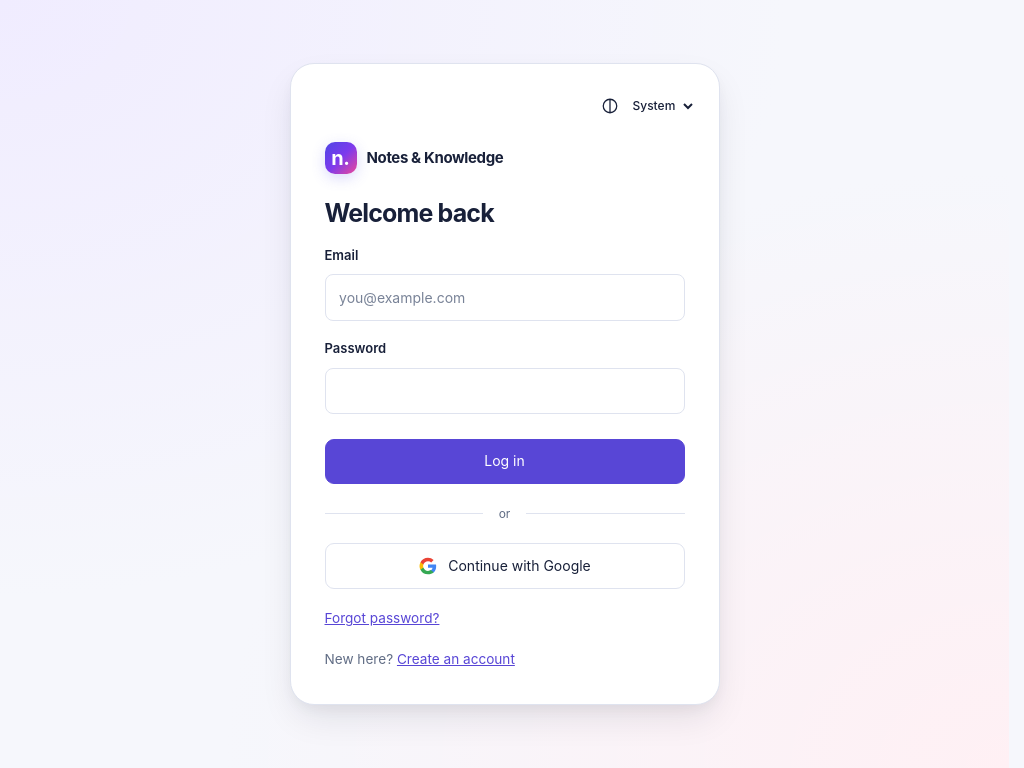
authentication browser journey › does not navigate to an unapproved Google start destination
expect the heading "Welcome back" is shown: met, box x1=324 y1=198 x2=494 y2=228
Click the button "Continue with Google": (504, 566) x1=324 y1=543 x2=684 y2=589
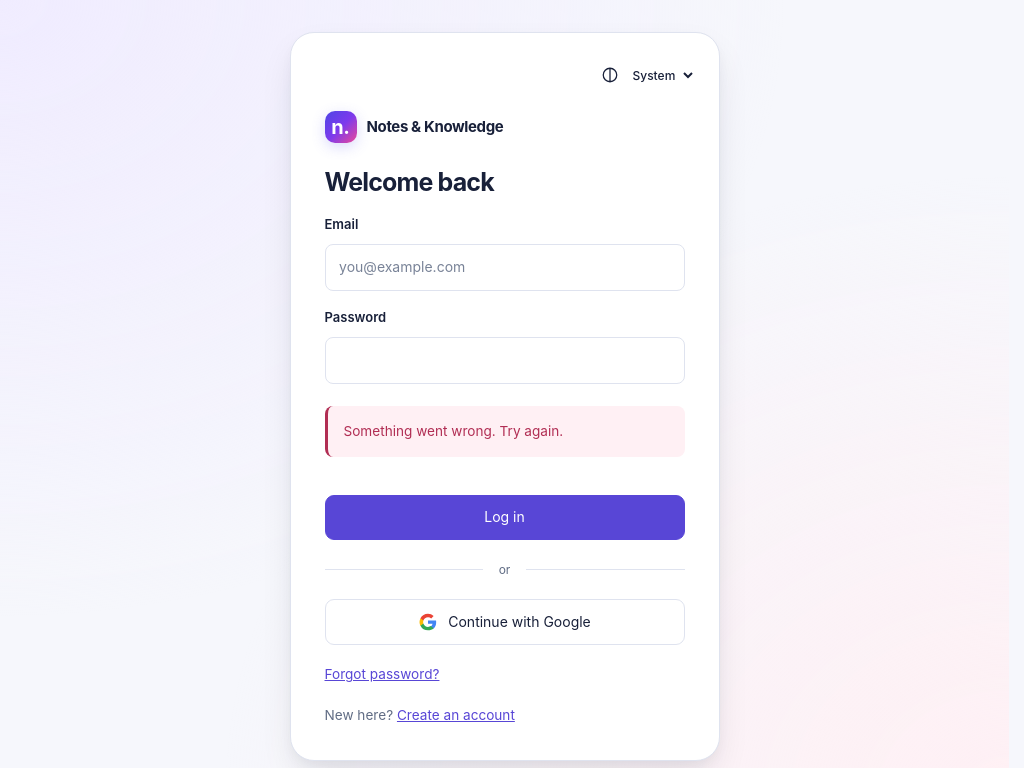
expect the text "Something went wrong. Try again." is shown: met, box x1=324 y1=406 x2=684 y2=457
